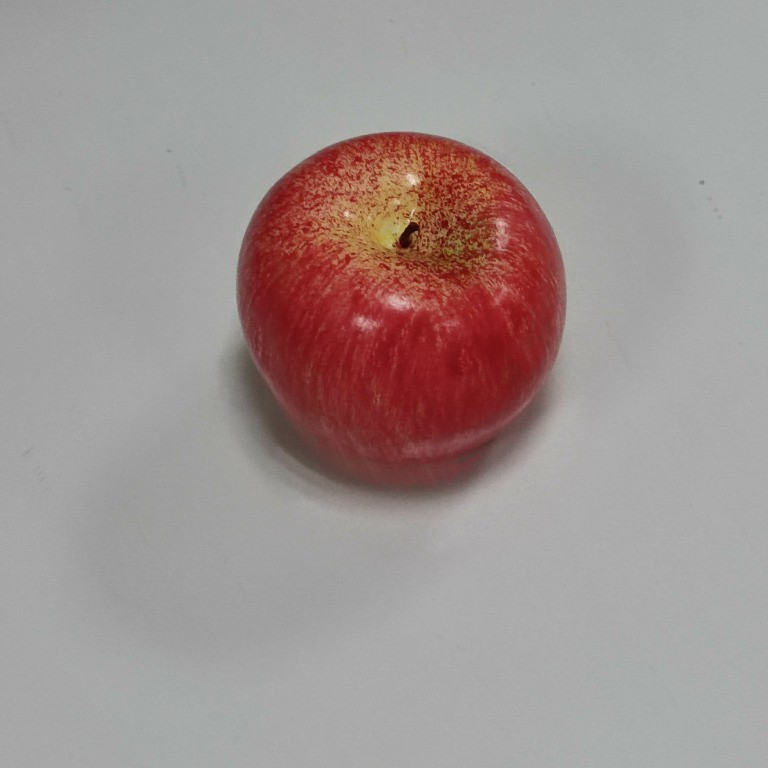fruit_apple: (230, 121, 589, 488)
